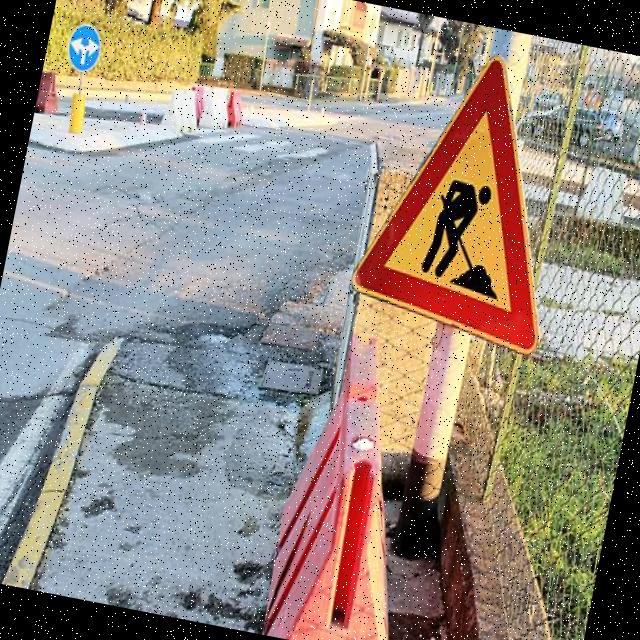road_work: (338, 34, 593, 361)
